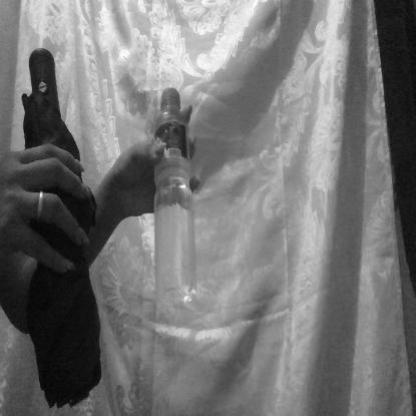Plastic Bottle: (147, 69, 215, 324)
